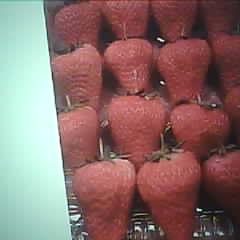straw-ripe: (138, 155, 200, 240), (75, 160, 135, 240), (108, 96, 164, 164), (157, 38, 209, 101), (171, 104, 229, 159), (54, 47, 101, 108), (106, 38, 154, 93)
